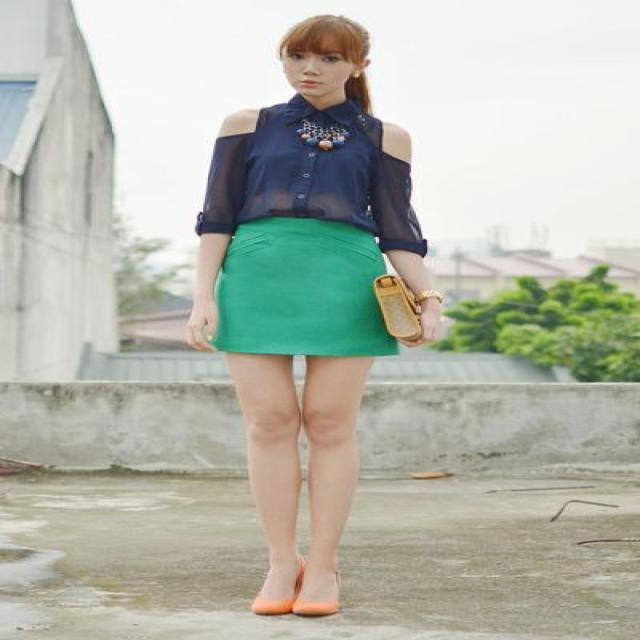bag: (374, 273, 428, 345)
shirt: (197, 95, 427, 258)
shoe: (248, 576, 338, 618)
skirt: (211, 218, 397, 356)
